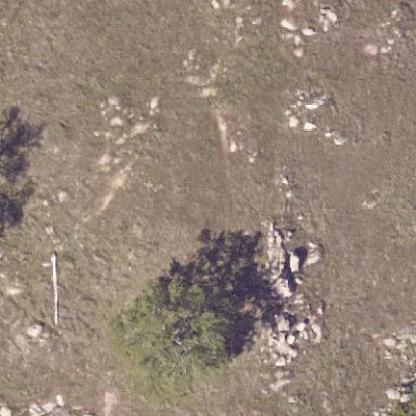tree-top: (99, 270, 241, 398)
